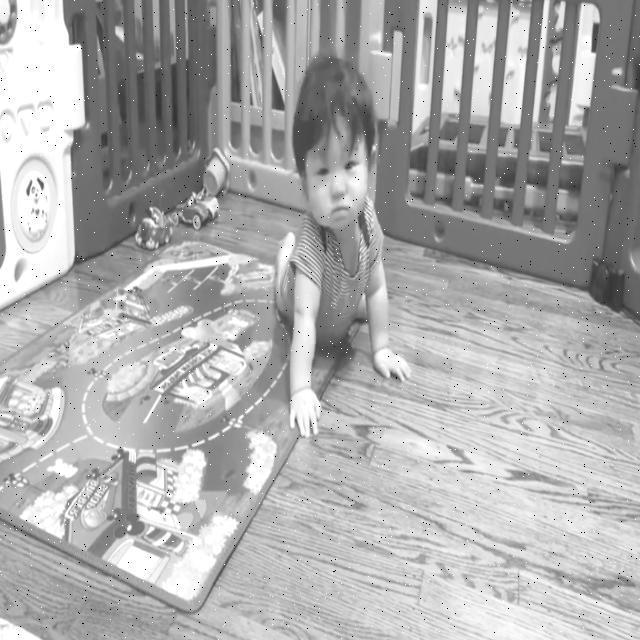child: (274, 57, 409, 440)
